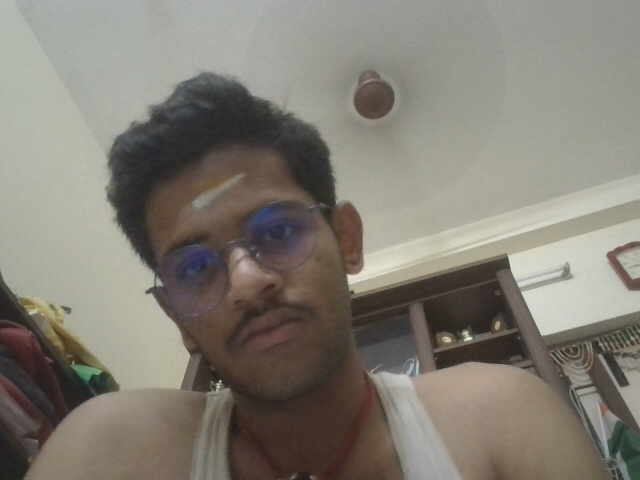real: (128, 158, 351, 381)
